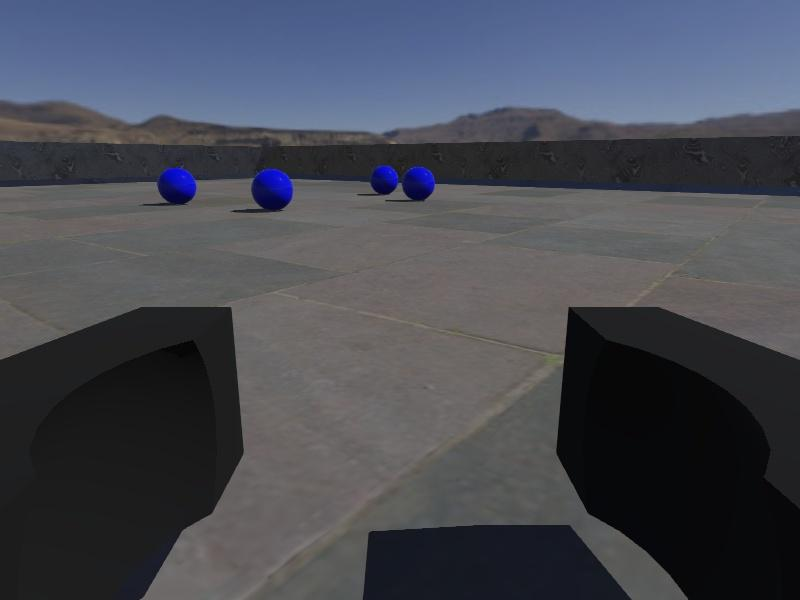blue ball: (251, 168, 294, 212), (158, 167, 196, 206), (402, 165, 436, 202), (370, 165, 399, 195)
